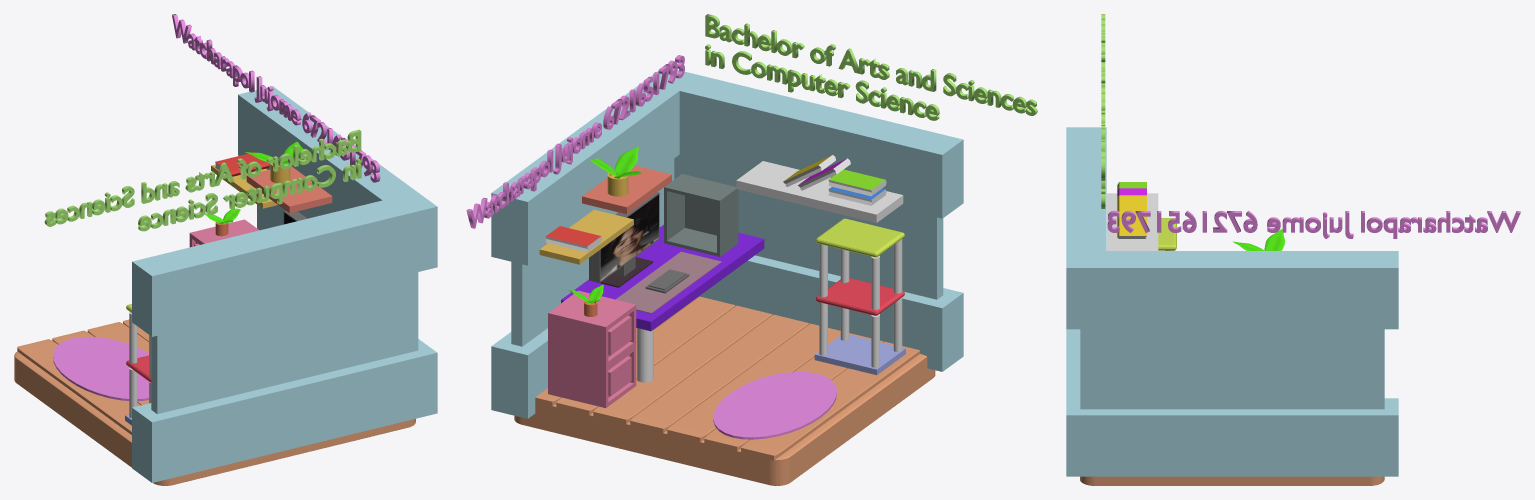
The model's file is TheRoom.glb.
The picture shows the model from 3 angles, left to right: view 1: azimuth 30°, elevation 25°; view 2: azimuth 150°, elevation 25°; view 3: azimuth 270°, elevation 25°; orthographic projection. The views are drawn at different scales.
Visible parts, largest first — view 1: Cube, Text.002, Cube.001, Cylinder.006, Text.001, Cube.002, Cube.011, Cube.005, Cube.010, Cube.021; view 2: Cube, Cube.002, Cube.001, Cube.005, Text.002, Cylinder.006, Cube.006, Text.001, Cube.003, Cube.012, Cube.007, Plane.009 (+9 smaller); view 3: Cube, Text.001, Cube.001, Cube.012, Text.002, Cube.019, Cube.025.
Boxes of the visible parts, x1=… form: Cube: x1=132, y1=86, x2=437, y2=482; Text.002: x1=44, y1=129, x2=361, y2=231; Cube.001: x1=14, y1=351, x2=415, y2=485; Cylinder.006: x1=53, y1=336, x2=148, y2=401; Text.001: x1=172, y1=14, x2=380, y2=182; Cube.002: x1=17, y1=319, x2=148, y2=434; Cube.011: x1=246, y1=166, x2=332, y2=213; Cube.005: x1=189, y1=219, x2=259, y2=247; Cube.010: x1=211, y1=164, x2=277, y2=208; Cube.021: x1=215, y1=152, x2=269, y2=176; Cube: x1=491, y1=70, x2=963, y2=418; Cube.002: x1=535, y1=296, x2=919, y2=460; Cube.001: x1=514, y1=354, x2=935, y2=485; Cube.005: x1=548, y1=290, x2=636, y2=407; Text.002: x1=705, y1=14, x2=1037, y2=120; Cylinder.006: x1=713, y1=372, x2=836, y2=439; Cube.006: x1=664, y1=174, x2=738, y2=256; Text.001: x1=466, y1=55, x2=684, y2=228; Cube.003: x1=561, y1=224, x2=764, y2=331; Cube.012: x1=736, y1=161, x2=903, y2=222; Cube.007: x1=616, y1=251, x2=721, y2=313; Plane.009: x1=600, y1=194, x2=658, y2=280; Cube: x1=1066, y1=127, x2=1398, y2=476; Text.001: x1=1107, y1=210, x2=1520, y2=238; Cube.001: x1=1080, y1=476, x2=1384, y2=485; Cube.012: x1=1107, y1=193, x2=1158, y2=250; Text.002: x1=1101, y1=14, x2=1105, y2=208; Cube.019: x1=1117, y1=195, x2=1146, y2=237; Cube.025: x1=1158, y1=218, x2=1176, y2=250.
Size of the model in its own units: 14.28 by 10.93 by 14.92.
44 materials, 1 textured.
